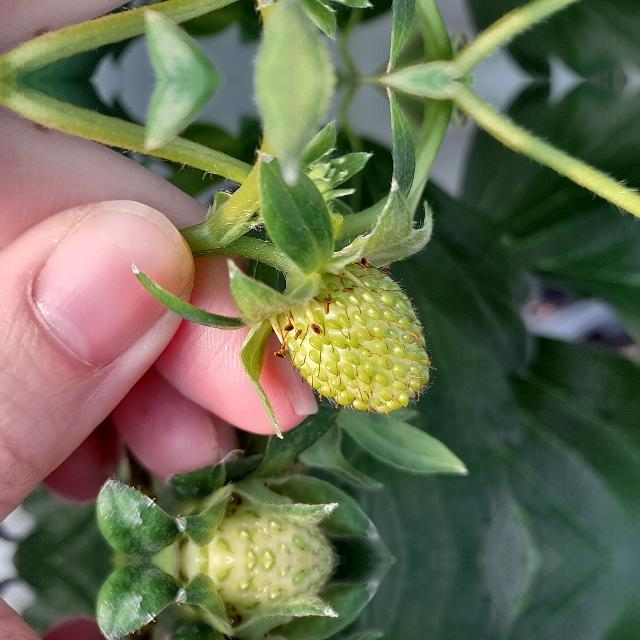Health_25: (277, 259, 437, 416)
